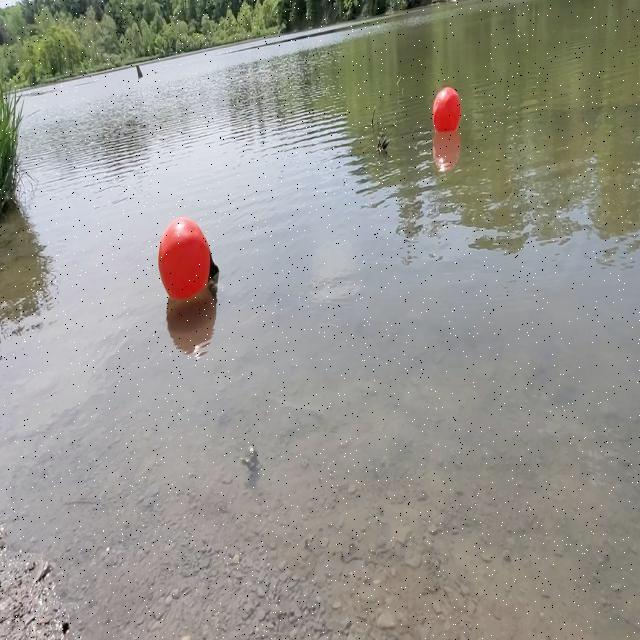buoy: (159, 213, 221, 304), (431, 84, 461, 138)
